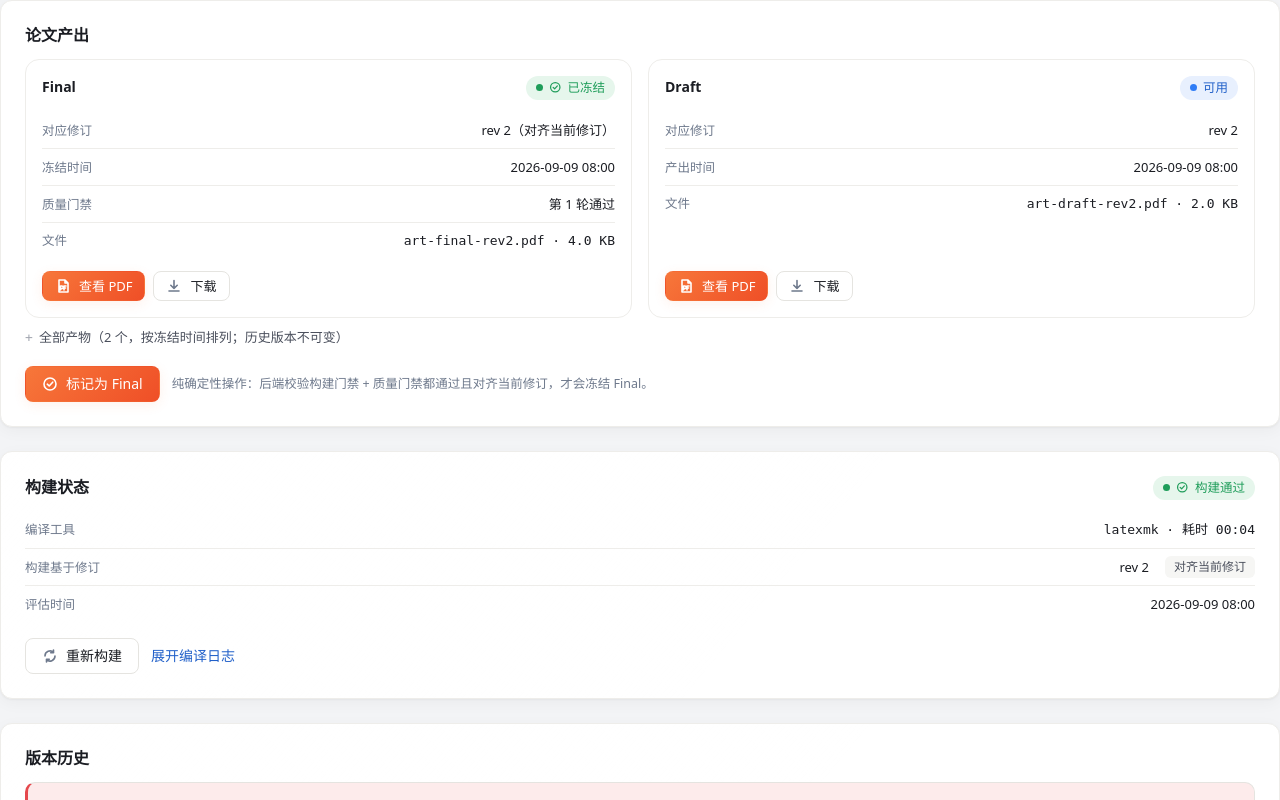
Scenario: PaperPanel：构建状态 › 重新构建 → POST /build；失败结果如实呈现
Expected: the element with test id "build-outcome" is shown, [1154, 476, 1255, 500]
Click the button with test id "build-run": coordinates (82, 656) [25, 638, 139, 674]
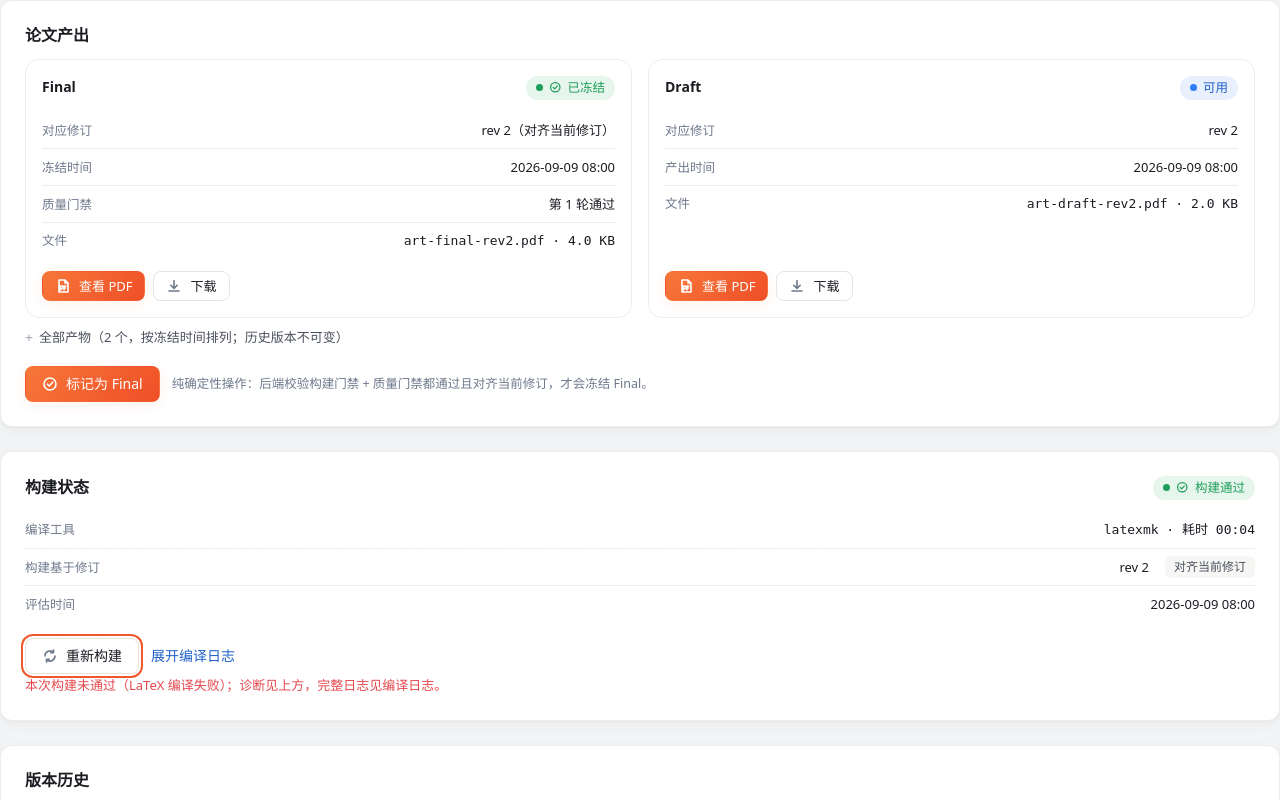
Expected: the message with test id "build-failed-note" shows "本次构建未通过", [25, 676, 129, 694]
